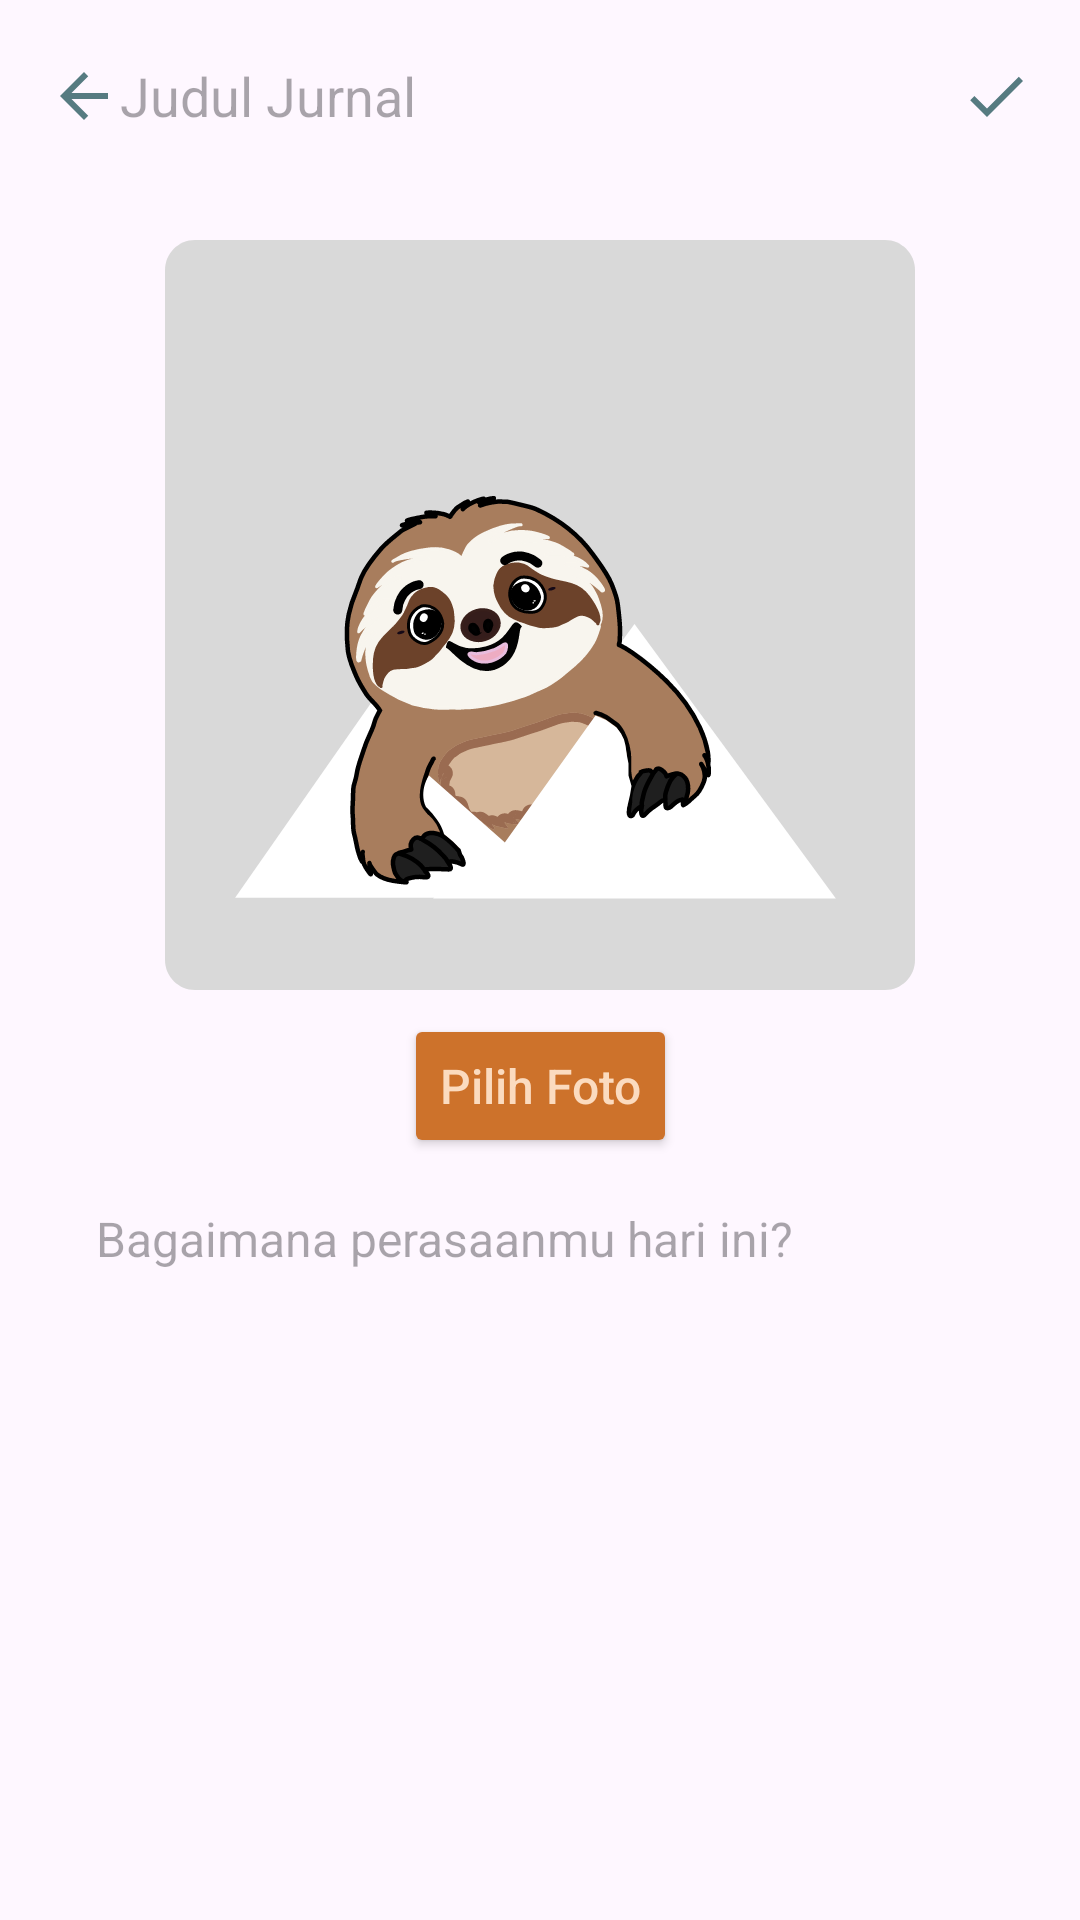

Screen size 1080 × 1920. Icon name, then its center in pixels as point (x, y):
Kembali: point (84, 96)
Simpan Jurnal: point (996, 97)
